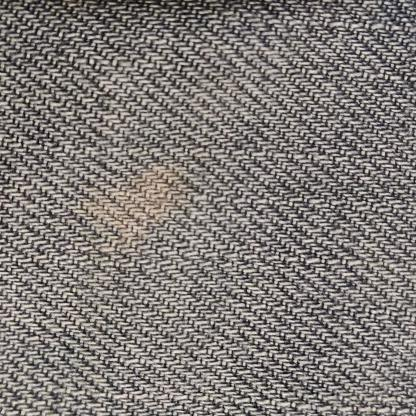spot: (75, 151, 191, 240)
